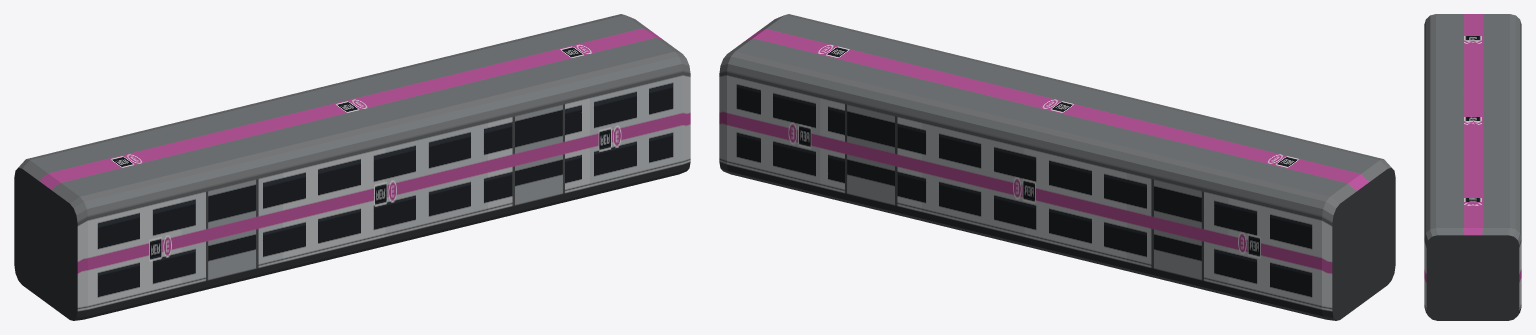
Rendered from rer_generic_E__neutral.glb.
The picture shows the model from 3 angles, left to right: view 1: azimuth 30°, elevation 25°; view 2: azimuth 150°, elevation 25°; view 3: azimuth 270°, elevation 25°; orthographic projection. The views are drawn at different scales.
Visible parts, largest first — view 1: rer_generic_E__neutral; view 2: rer_generic_E__neutral; view 3: rer_generic_E__neutral.
Boxes of the visible parts, <box> form: rer_generic_E__neutral: <box>14,14,690,320</box>; rer_generic_E__neutral: <box>719,14,1395,320</box>; rer_generic_E__neutral: <box>1424,14,1521,320</box>.
Size of the model in its own units: 15 by 2.85 by 2.8.
Materials: 1 (1 with a texture image).
